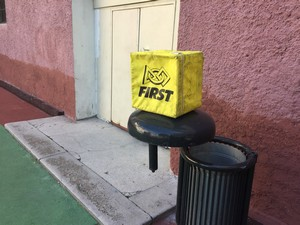cube: (128, 48, 203, 116)
